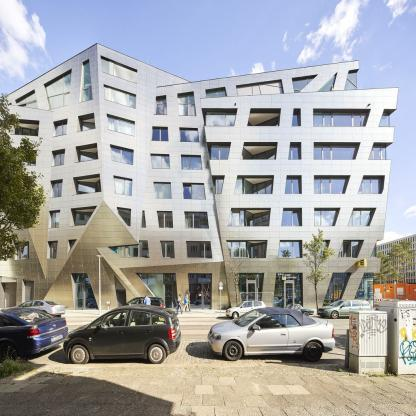Balcony: (205, 87, 399, 109)
Building Outline: (0, 37, 399, 312)
Door: (285, 283, 293, 310), (203, 283, 211, 309), (76, 283, 84, 309), (25, 287, 35, 307), (248, 283, 256, 307)
Facade: (0, 37, 399, 312)
Window: (136, 274, 179, 308), (272, 273, 302, 311), (45, 71, 72, 109), (321, 273, 349, 309), (235, 273, 264, 307), (101, 57, 137, 83), (188, 274, 211, 308), (350, 274, 373, 308), (313, 112, 367, 126), (76, 274, 98, 308), (228, 210, 269, 228), (104, 85, 136, 108), (234, 178, 272, 197), (227, 241, 266, 258), (236, 81, 283, 95), (109, 241, 149, 257), (314, 145, 357, 159), (314, 177, 348, 194), (241, 147, 275, 163), (247, 116, 279, 132), (107, 116, 133, 135), (81, 61, 93, 102), (16, 92, 38, 113), (187, 241, 212, 258), (206, 112, 236, 126), (178, 93, 196, 116), (314, 209, 338, 226), (338, 241, 362, 258), (111, 147, 133, 165), (348, 210, 373, 225), (358, 178, 381, 194), (292, 76, 315, 92), (279, 241, 301, 257), (185, 213, 208, 228), (183, 184, 205, 199), (114, 177, 132, 195), (78, 180, 100, 194), (318, 74, 336, 91), (157, 211, 173, 228), (19, 150, 36, 166), (282, 210, 300, 225), (211, 145, 230, 159), (182, 156, 202, 169), (154, 183, 171, 198), (285, 177, 300, 194), (15, 126, 38, 137), (75, 211, 93, 225), (151, 155, 170, 168), (369, 145, 386, 159), (161, 241, 174, 258), (180, 129, 198, 141), (345, 71, 356, 90), (155, 97, 167, 114), (151, 129, 168, 141), (315, 241, 328, 256), (17, 243, 29, 259), (118, 209, 130, 225), (206, 89, 227, 98), (80, 152, 98, 162), (56, 121, 67, 136), (54, 152, 65, 166), (51, 212, 60, 227), (289, 146, 299, 159), (379, 113, 389, 126), (82, 122, 95, 132), (50, 242, 58, 258), (53, 183, 62, 197), (216, 179, 223, 193), (292, 113, 298, 126), (371, 243, 376, 257), (142, 211, 146, 227), (71, 241, 75, 249)
